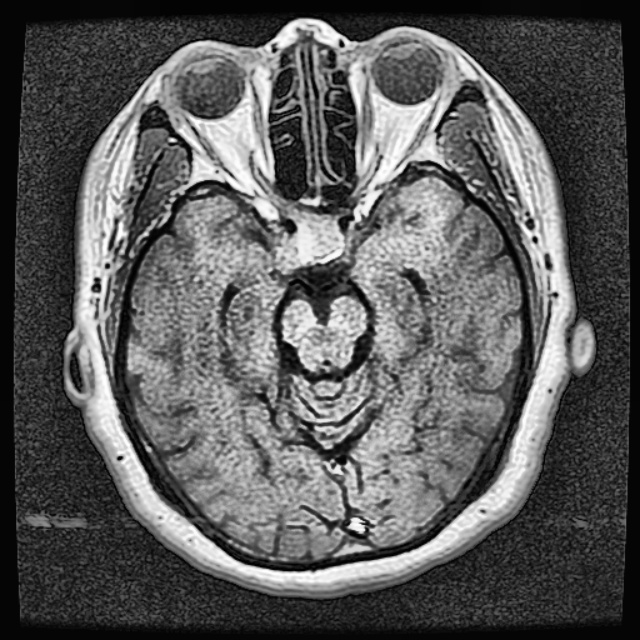Pituitary: (275, 212, 343, 273)
